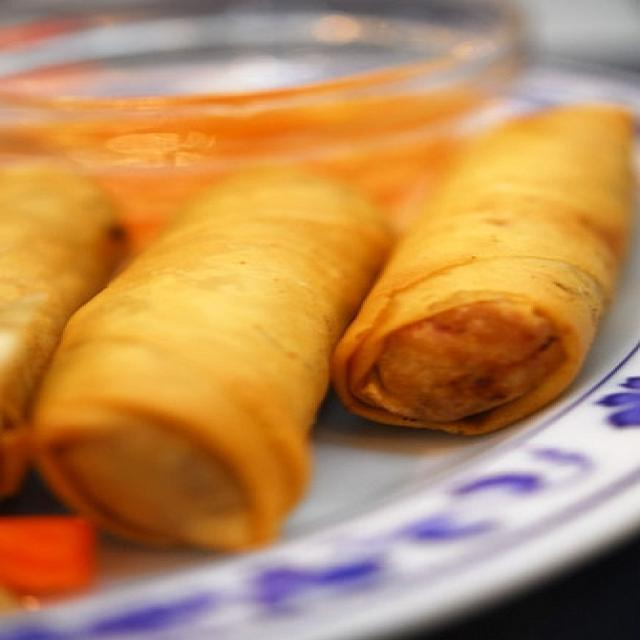炸货点心: (11, 67, 625, 616)
